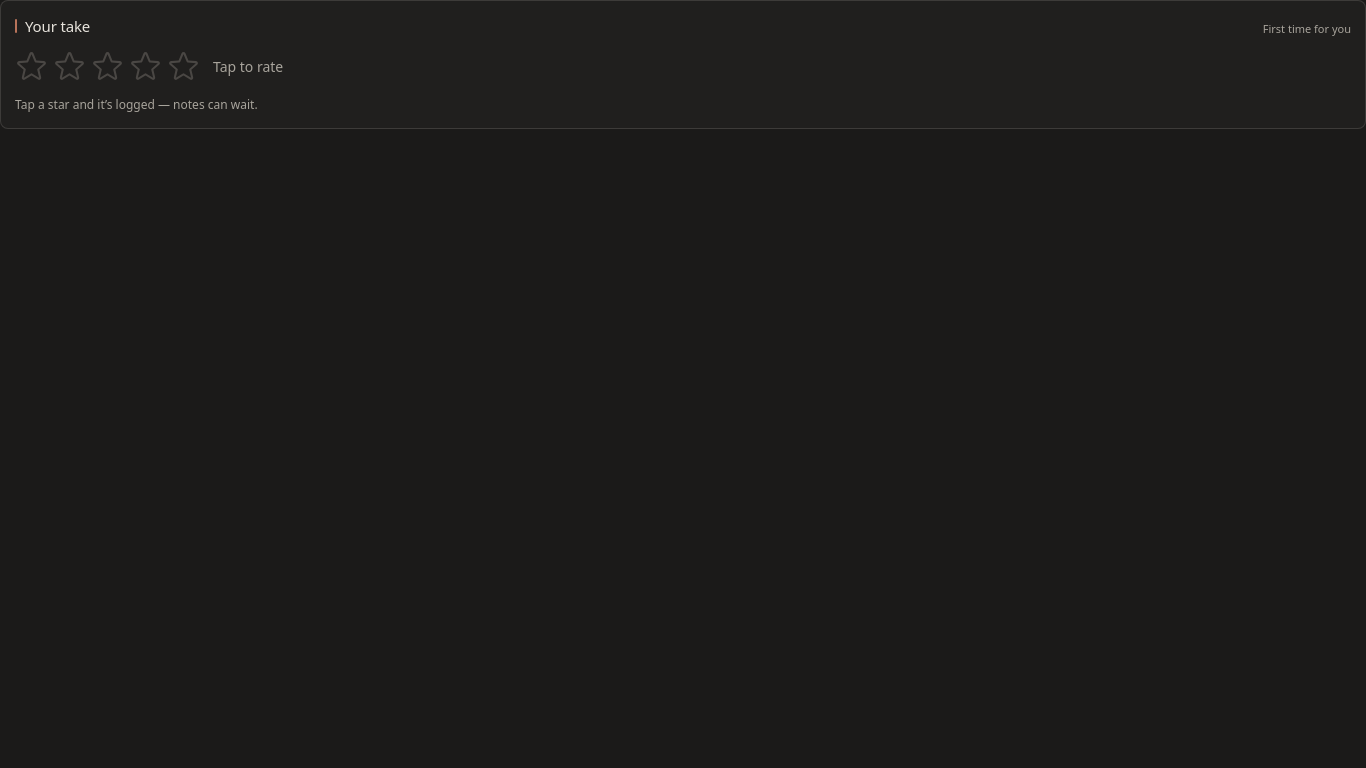
it: §5 log panel › Undo removes the tasting and returns the panel to "Your take"
This screenshot has width=1366, height=768.
Click the button with test id "star-rating-4". click: [154, 67]
box: [146,50,163,84]
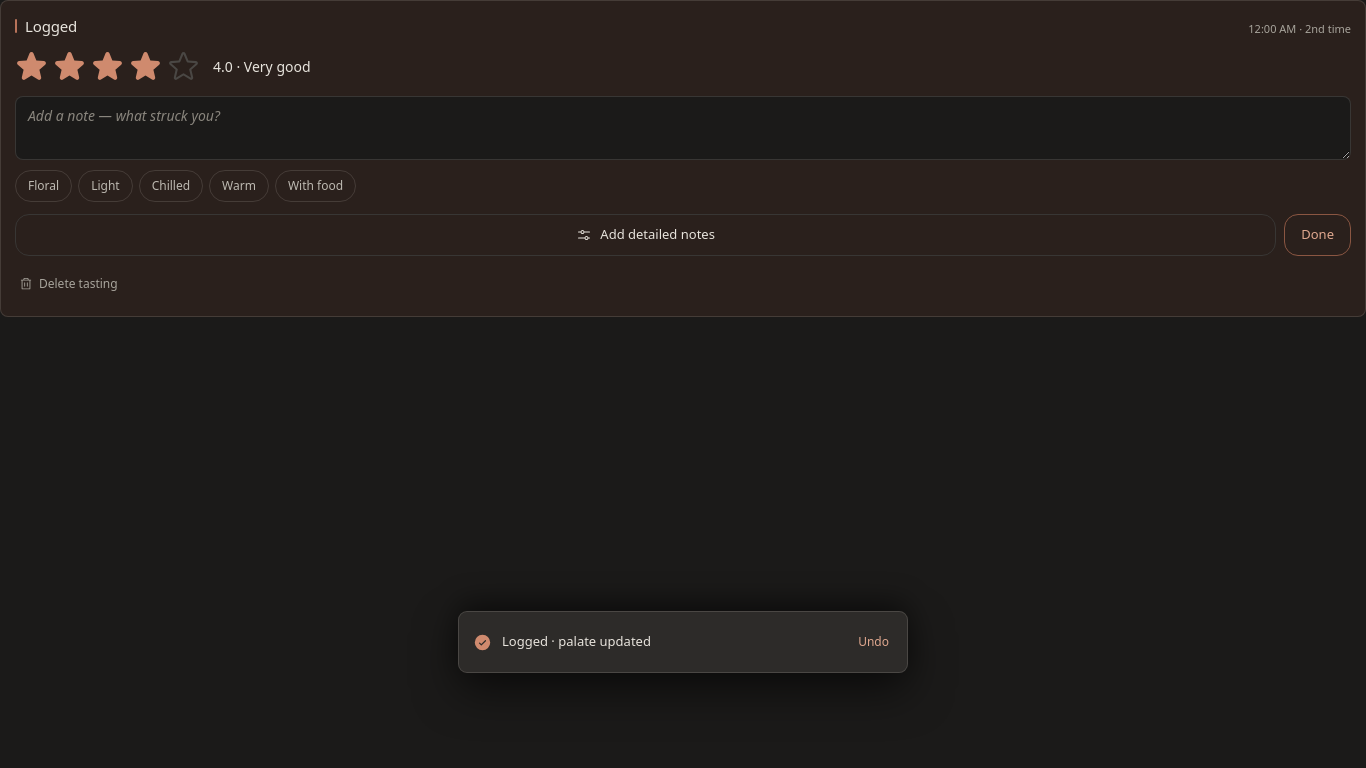
Now the message "Logged · palate updated Undo" is shown, box [459,612,907,672]
Click the button with test id "undo-notice-undo". click: [874, 642]
box: [854,624,893,660]
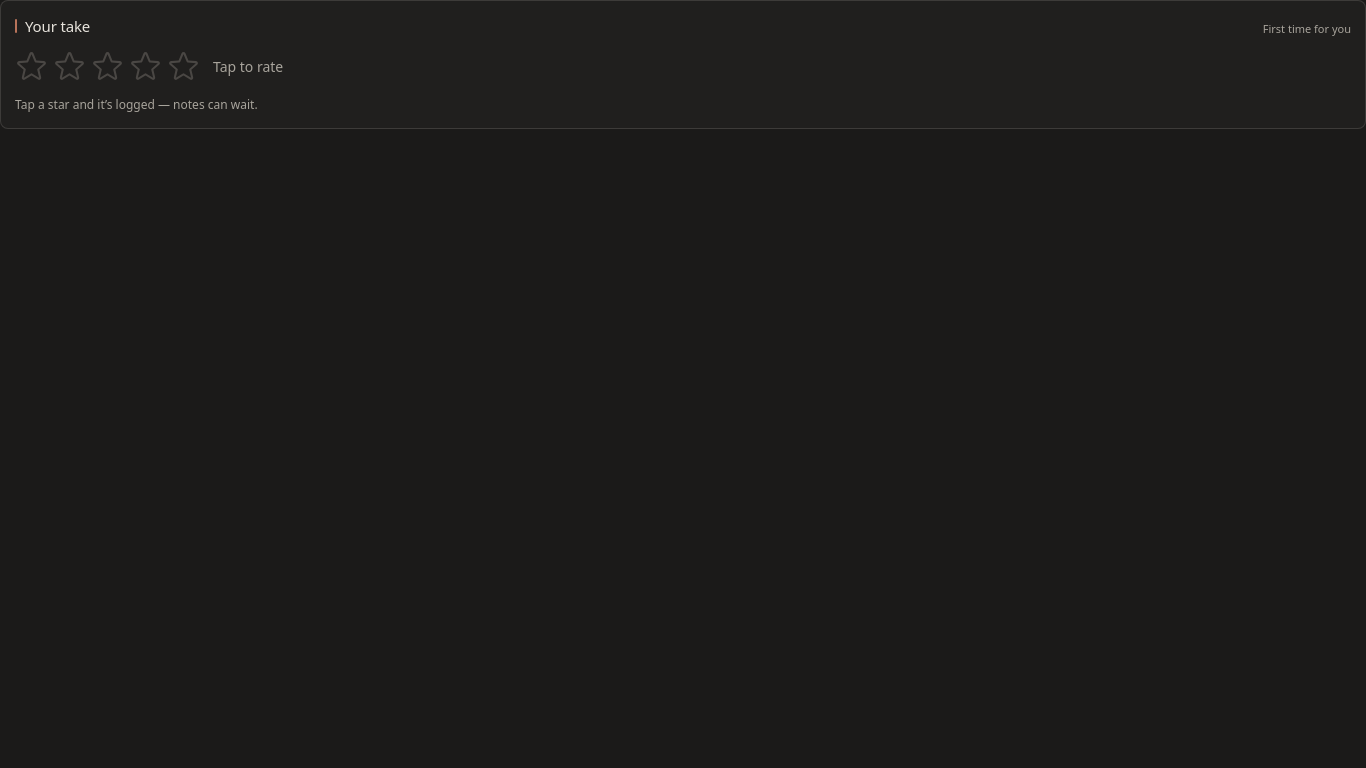
Now the heading "Your take" is shown, box [25,15,90,38]
Now the text with test id "tasting-log-rating" reads "Tap to rate", box [213,57,283,76]
